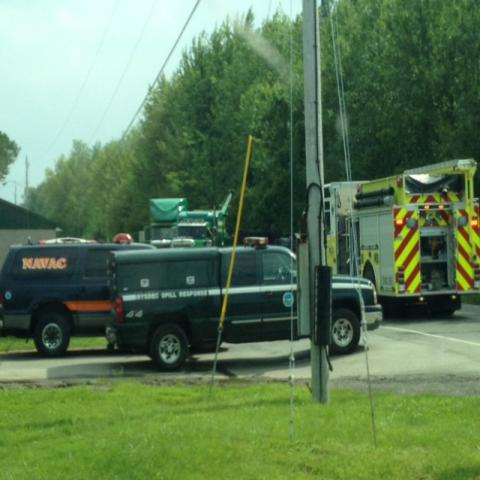car: (103, 237, 383, 367), (0, 232, 159, 359)
truck: (106, 234, 383, 374), (324, 160, 478, 316), (0, 240, 156, 359), (178, 208, 226, 246)
